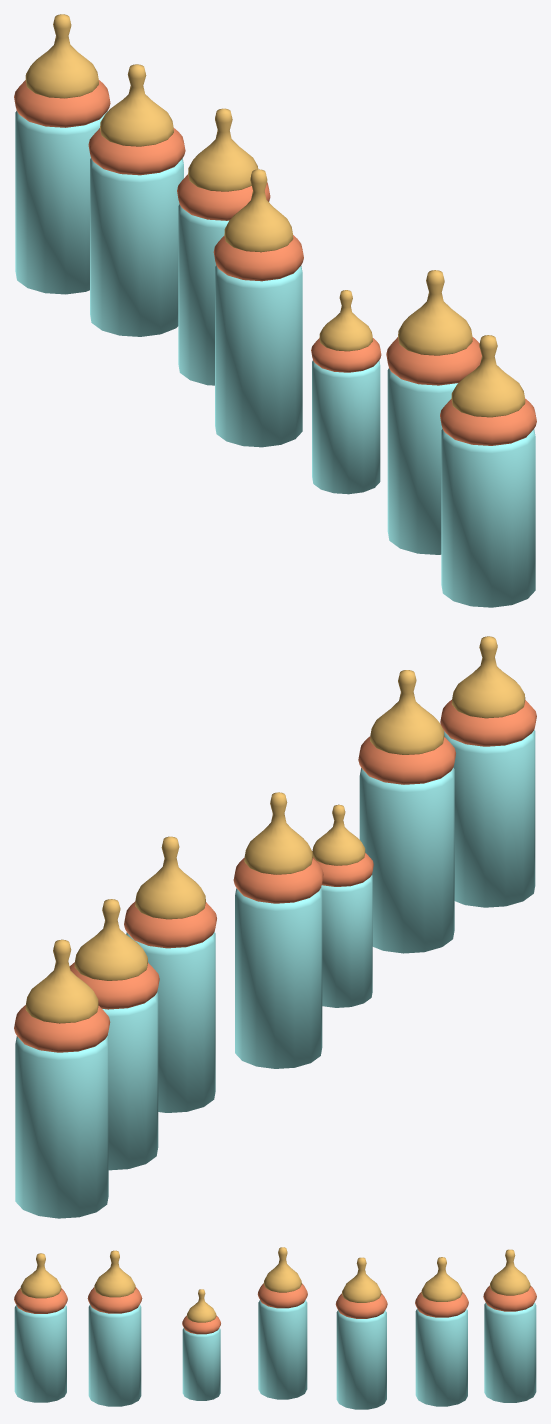
File: FI_072_baby_bottles.glb
3 renders of one model, top to bottom at view 1: azimuth 30°, elevation 25°; view 2: azimuth 150°, elevation 25°; view 3: azimuth 270°, elevation 25°, orthographic. The views are drawn at different scales.
Visible parts, largest first — view 1: baby_bottles; view 2: baby_bottles; view 3: baby_bottles.
Part boxes in pixels (<box>): baby_bottles: <box>14,14,536,607</box>; baby_bottles: <box>14,636,536,1218</box>; baby_bottles: <box>14,1247,536,1409</box>.
Bounding box in the file's own units: 0.333 × 0.7318 × 2.38.
